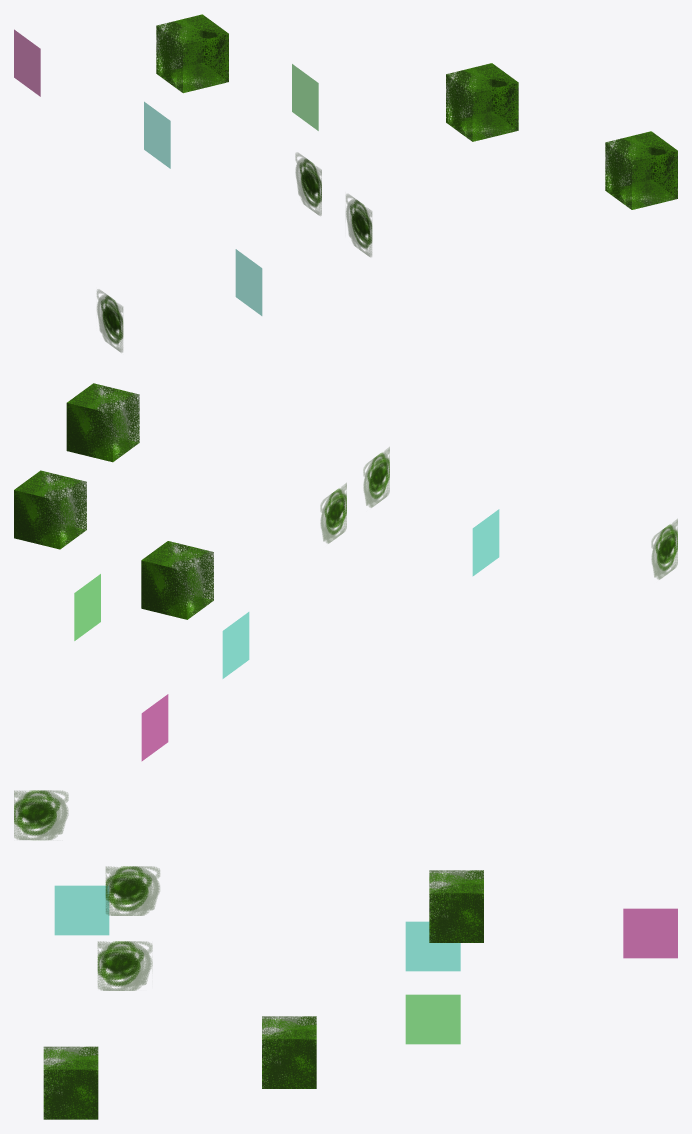
The model's file is transparency.glb.
The picture shows the model from 3 angles, top to bottom: view 1: azimuth 30°, elevation 25°; view 2: azimuth 150°, elevation 25°; view 3: azimuth 270°, elevation 25°; orthographic projection. The views are drawn at different scales.
Parts seen in each view (by area): view 1: transp_3, transp_2, transp_1, Plane.004, Plane.003, Plane.001, Plane.002, transp.002, transp, transp.001; view 2: transp_1, transp_2, transp_3, Plane.003, Plane.002, Plane.004, Plane.001, transp, transp.002, transp.001; view 3: transp_1, transp_2, transp_3, Plane.001, Plane.004, Plane.003, transp.001, transp, transp.002, Plane.002.
Part boxes in pixels (x1,y1,x2,y2): transp_3: (156, 14, 228, 93); transp_2: (446, 63, 518, 141); transp_1: (605, 131, 677, 209); Plane.004: (235, 249, 262, 315); Plane.003: (14, 29, 40, 96); Plane.001: (292, 64, 318, 130); Plane.002: (144, 102, 170, 168); transp.002: (97, 289, 123, 352); transp: (295, 152, 321, 215); transp.001: (346, 194, 372, 256); transp_1: (66, 383, 139, 462); transp_2: (14, 470, 86, 549); transp_3: (141, 541, 213, 619); Plane.003: (141, 694, 168, 761); Plane.002: (222, 612, 249, 678); Plane.004: (472, 509, 499, 575); Plane.001: (74, 574, 100, 640); transp: (363, 447, 389, 507); transp.002: (651, 519, 677, 579); transp.001: (320, 483, 346, 543); transp_1: (43, 1046, 98, 1119); transp_2: (262, 1016, 316, 1088); transp_3: (429, 870, 483, 942); Plane.001: (405, 994, 460, 1044); Plane.004: (54, 885, 109, 935); Plane.003: (623, 908, 677, 958); transp.001: (97, 941, 152, 990); transp: (105, 866, 159, 915); transp.002: (14, 790, 68, 840); Plane.002: (405, 921, 460, 971).
Size of what is drawn, in the model's own units: 24.68 by 4.69 by 24.22.
4 materials, 1 textured.
